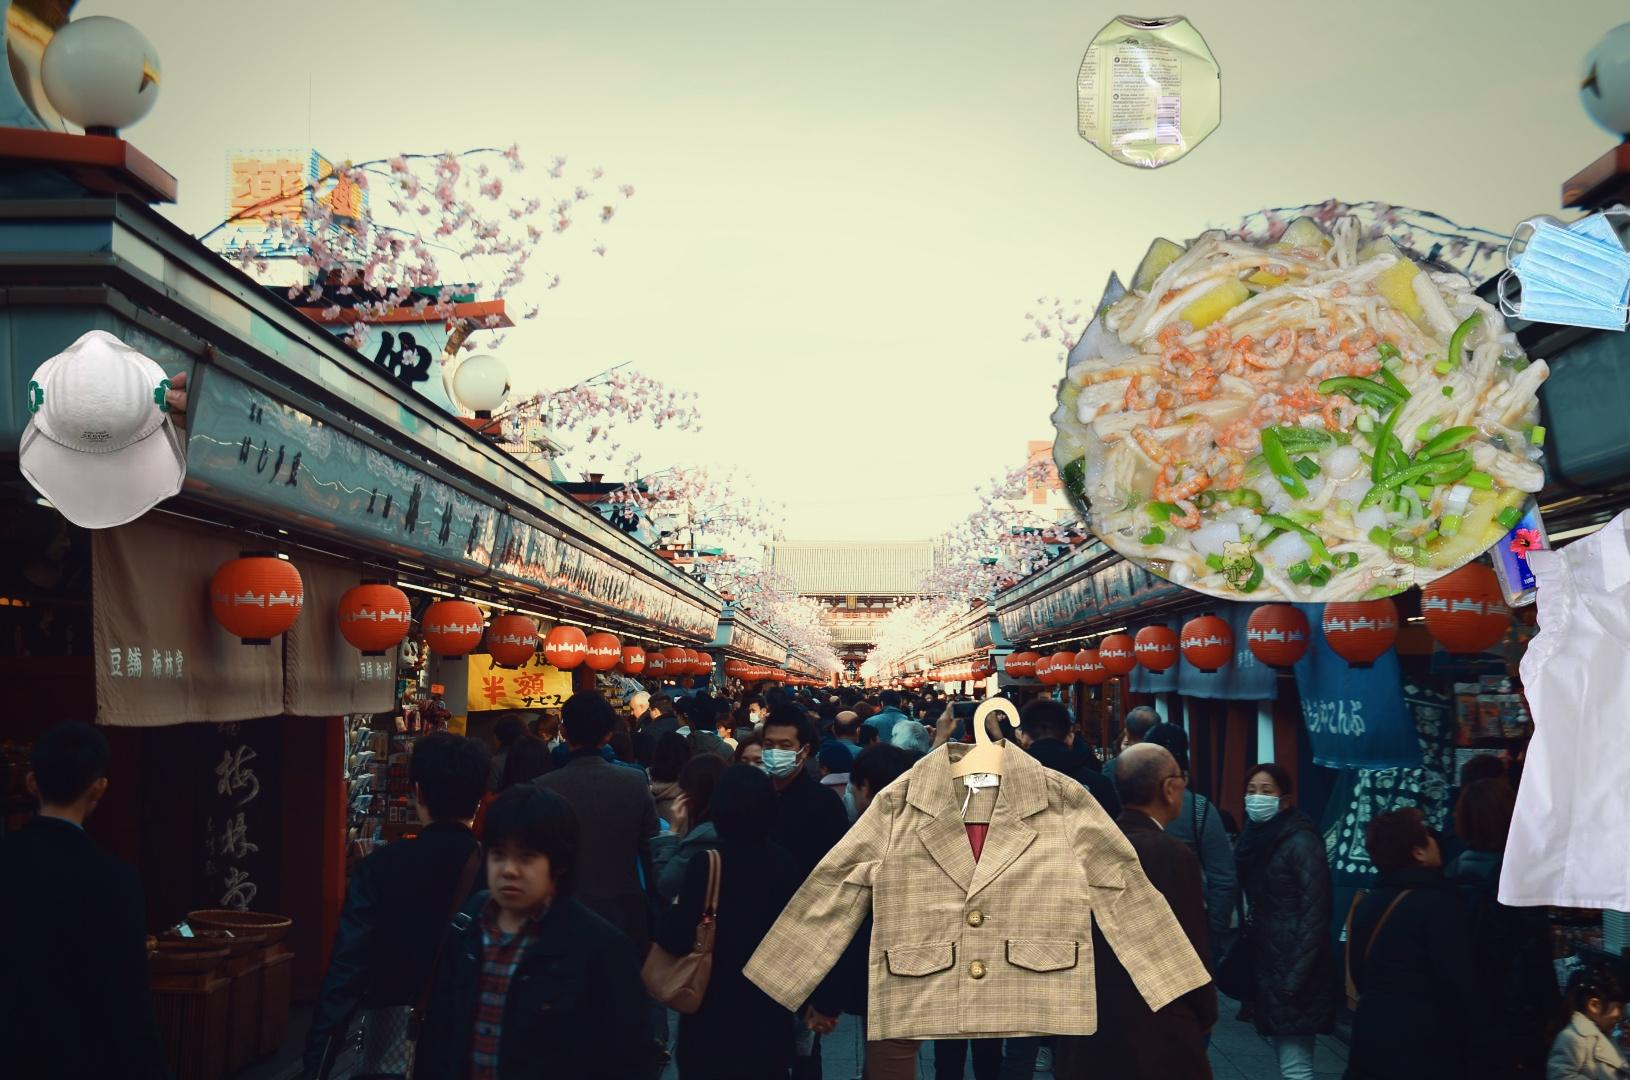biological: (1023, 209, 1557, 636)
clothes: (737, 693, 1217, 1045), (1493, 504, 1630, 918)
metal-cans: (1073, 8, 1225, 174)
plastic-bottles: (1466, 425, 1567, 615)
trash: (16, 327, 214, 538), (1493, 181, 1630, 334)
